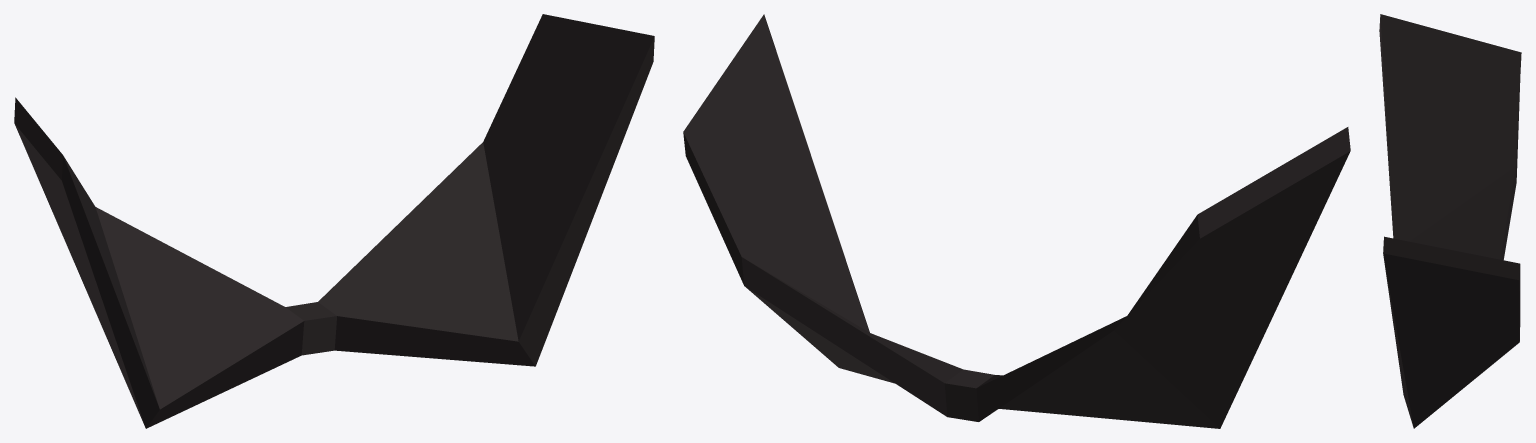
File: sportglasses.fbx
The picture shows the model from 3 angles, left to right: view 1: azimuth 30°, elevation 25°; view 2: azimuth 150°, elevation 25°; view 3: azimuth 270°, elevation 25°; orthographic projection. The views are drawn at different scales.
Parts seen in each view (by area): view 1: Cube.001; view 2: Cube.001; view 3: Cube.001.
Part boxes in pixels (x1,y1,x2,y2): Cube.001: [14, 14, 654, 428]; Cube.001: [683, 14, 1350, 428]; Cube.001: [1379, 14, 1521, 428].
Size of the model in its own units: 46.92 by 26.34 by 13.84.
Materials: 1 (1 with a texture image).
